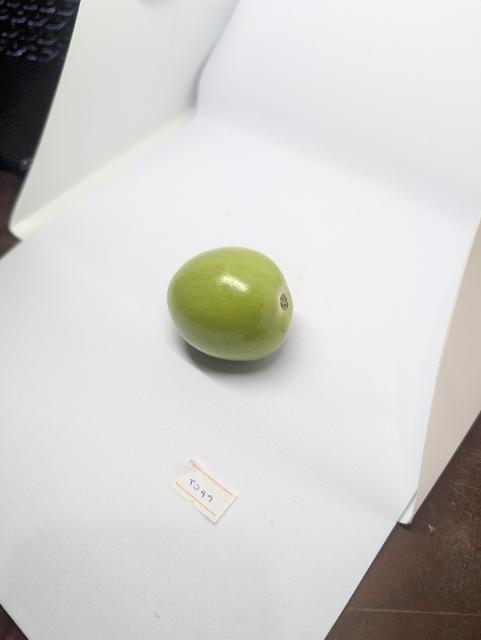green: (150, 238, 322, 383)
